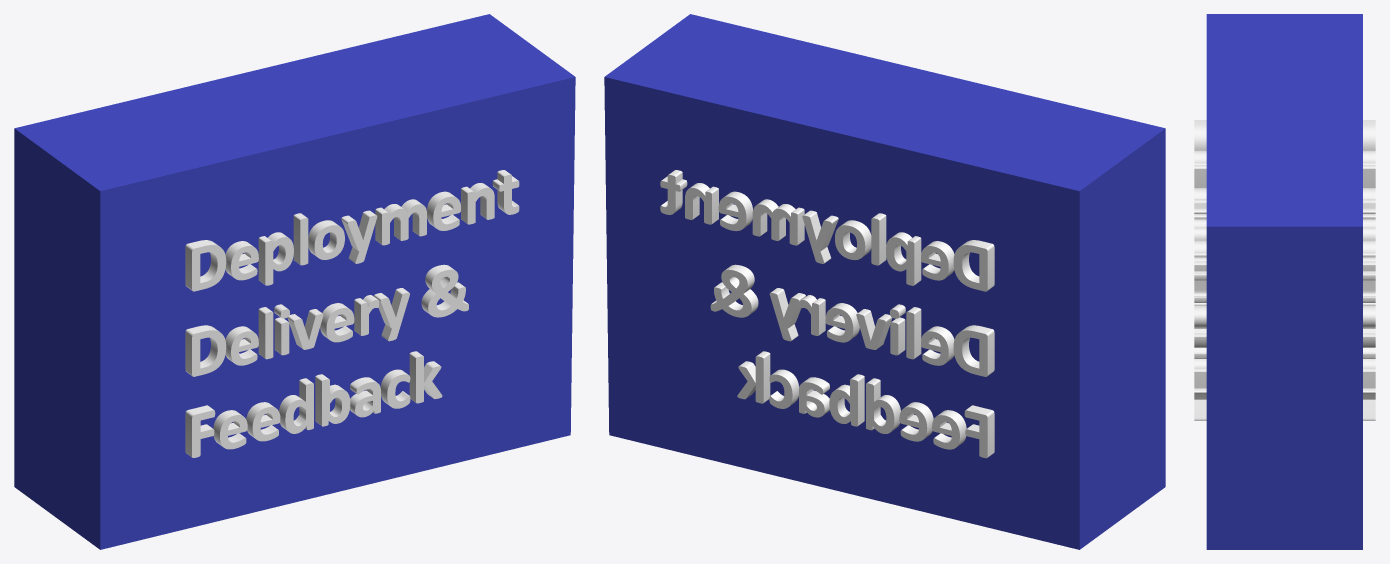
The model's file is deployfeed.fbx.
3 views of the same model, side by side, from view 1: azimuth 30°, elevation 25°; view 2: azimuth 150°, elevation 25°; view 3: azimuth 270°, elevation 25° (orthographic). The views are drawn at different scales.
Parts seen in each view (by area): view 1: root, node_id113 (×3); view 2: root, node_id113 (×3); view 3: root, node_id113 (×3).
Part boxes in pixels (x1=…): root: x1=14, y1=14, x2=575, y2=549; node_id113 (×3): x1=185, y1=170, x2=519, y2=457; root: x1=604, y1=14, x2=1165, y2=549; node_id113 (×3): x1=660, y1=170, x2=994, y2=458; root: x1=1206, y1=14, x2=1362, y2=549; node_id113 (×3): x1=1194, y1=120, x2=1375, y2=420.
Bounding box in the file's own units: 0.1458 × 0.1051 × 0.0528.
